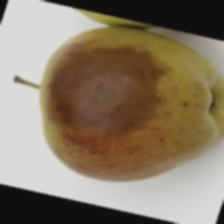apple: (31, 11, 197, 197)
